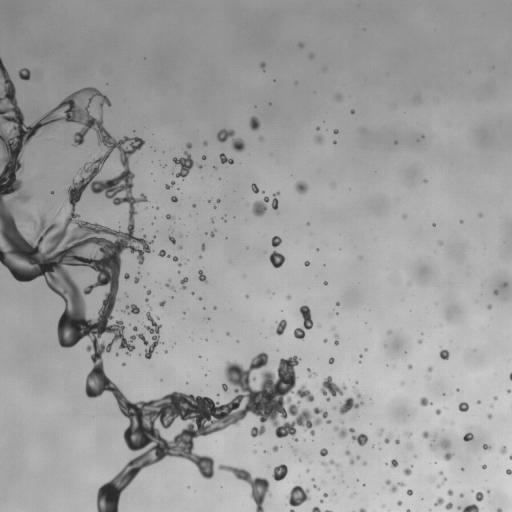droplet: (172, 151, 195, 179), (286, 485, 310, 511), (320, 376, 347, 396), (252, 196, 269, 216), (269, 251, 285, 267), (272, 464, 287, 481), (216, 129, 234, 142), (231, 138, 245, 151), (122, 304, 139, 314), (276, 319, 286, 335), (249, 116, 260, 130), (18, 68, 30, 80), (295, 181, 307, 193), (271, 236, 281, 247), (420, 397, 432, 406), (439, 349, 449, 359), (198, 270, 206, 282), (180, 277, 188, 289), (458, 402, 468, 411), (463, 432, 473, 441), (434, 496, 443, 506), (158, 250, 170, 257), (475, 491, 483, 501), (307, 369, 316, 377), (251, 183, 258, 193), (384, 435, 392, 443), (390, 459, 398, 467), (403, 467, 411, 475), (315, 134, 322, 143), (320, 448, 327, 456), (445, 502, 452, 510), (168, 236, 175, 243), (422, 431, 429, 438), (483, 444, 491, 450), (272, 445, 279, 451), (500, 446, 506, 453), (260, 62, 265, 70), (349, 456, 354, 464), (171, 196, 177, 202), (447, 489, 453, 495), (166, 214, 173, 219), (210, 230, 215, 237), (134, 276, 139, 283), (329, 357, 334, 364), (291, 447, 296, 454), (336, 94, 341, 100), (186, 142, 191, 148), (124, 273, 129, 279), (159, 301, 165, 306), (356, 392, 361, 398), (435, 409, 441, 414), (407, 489, 412, 495), (379, 429, 383, 436), (304, 261, 309, 266), (493, 290, 498, 295), (407, 364, 412, 369), (345, 450, 350, 455), (506, 469, 511, 474), (436, 483, 441, 488), (201, 244, 205, 250), (334, 339, 338, 345), (405, 432, 411, 436), (395, 438, 399, 444), (407, 443, 411, 449), (430, 443, 434, 449), (385, 480, 391, 484), (359, 508, 366, 511), (333, 129, 338, 133), (133, 326, 137, 331), (313, 485, 318, 489), (397, 500, 401, 505), (496, 508, 502, 511), (299, 43, 303, 47), (309, 54, 313, 58), (350, 109, 354, 113), (203, 141, 207, 145), (478, 213, 482, 217), (487, 305, 491, 309), (323, 338, 327, 342), (428, 367, 432, 371), (487, 414, 491, 418), (439, 471, 443, 475), (323, 493, 327, 497), (459, 493, 463, 497), (202, 156, 206, 159), (216, 199, 220, 202), (222, 217, 225, 221), (211, 218, 214, 222), (147, 290, 150, 294), (287, 295, 290, 299), (418, 339, 421, 343), (326, 397, 330, 400), (356, 456, 360, 459), (482, 465, 486, 468), (431, 477, 434, 481), (443, 478, 446, 482), (414, 97, 417, 100), (198, 165, 201, 168), (51, 191, 54, 194), (403, 215, 406, 218), (324, 281, 327, 284), (336, 302, 339, 305), (335, 334, 338, 337), (359, 354, 362, 357), (122, 363, 125, 366), (507, 389, 510, 392), (494, 396, 497, 399), (477, 400, 480, 403), (327, 420, 330, 423), (509, 455, 511, 459), (406, 509, 410, 511), (316, 127, 319, 129), (259, 137, 262, 139), (193, 204, 195, 207), (460, 220, 462, 223), (179, 246, 181, 249), (245, 295, 248, 297), (199, 297, 201, 300), (387, 331, 390, 333), (115, 353, 118, 355), (363, 462, 366, 464), (306, 469, 309, 471), (487, 490, 489, 493), (320, 500, 323, 502), (333, 141, 335, 143), (395, 141, 397, 143), (214, 166, 216, 168), (424, 180, 426, 182), (214, 205, 216, 207), (439, 242, 441, 244), (199, 256, 201, 258), (191, 292, 193, 294), (145, 299, 147, 301), (214, 307, 216, 309), (227, 333, 229, 335), (458, 507, 460, 509)
ligament: (0, 58, 327, 511), (218, 464, 271, 511), (293, 305, 313, 339), (334, 426, 367, 445), (333, 397, 363, 414), (442, 439, 453, 460), (271, 191, 280, 209), (219, 153, 233, 164), (391, 481, 404, 492), (320, 460, 339, 467), (462, 504, 479, 511), (172, 256, 181, 266), (165, 181, 175, 189), (166, 279, 173, 290), (311, 506, 321, 511), (509, 373, 511, 380), (325, 510, 331, 511)
